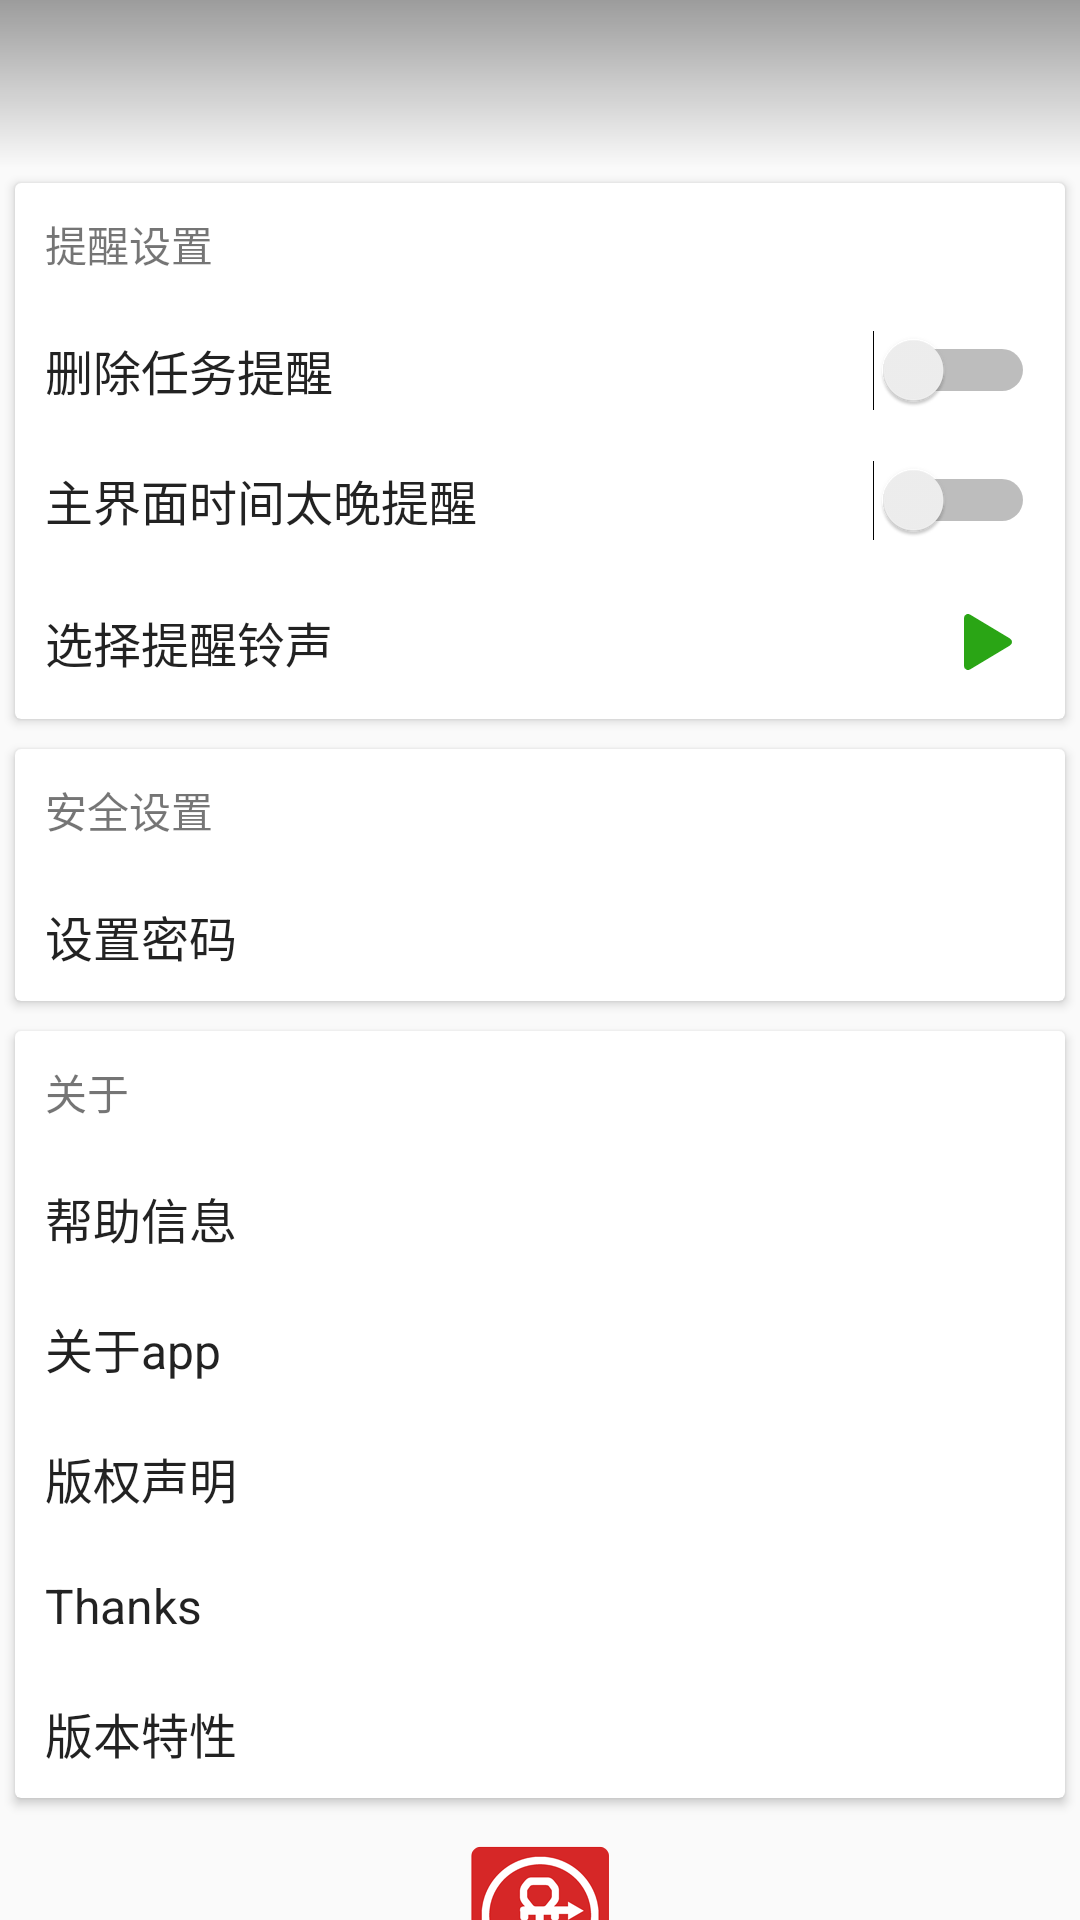

Screen size 1080×1920. Icon name, then its center in pixels as [x,y]:
start: [988,642]
